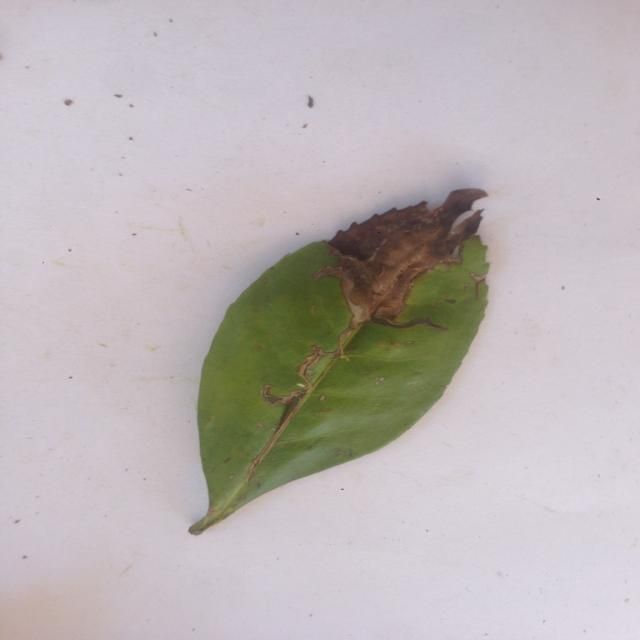Brown Blight: (173, 188, 508, 542)
